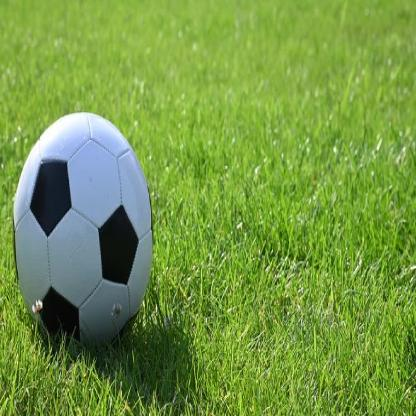ball: (12, 113, 152, 349)
